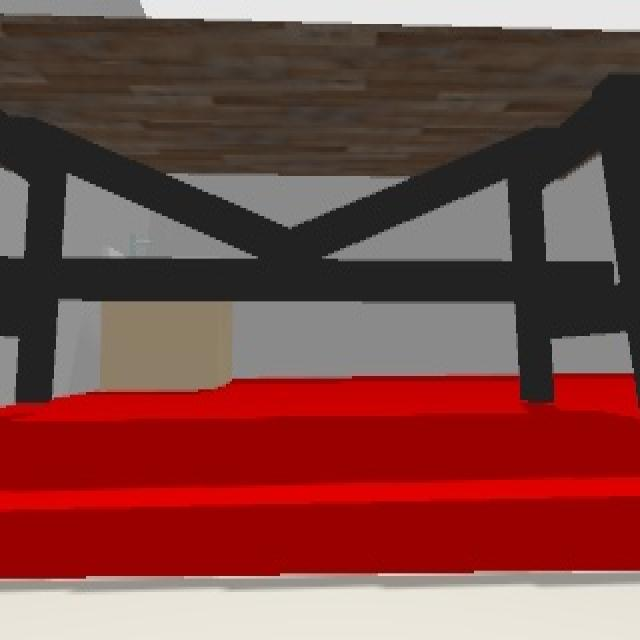dining: (0, 10, 640, 412)
